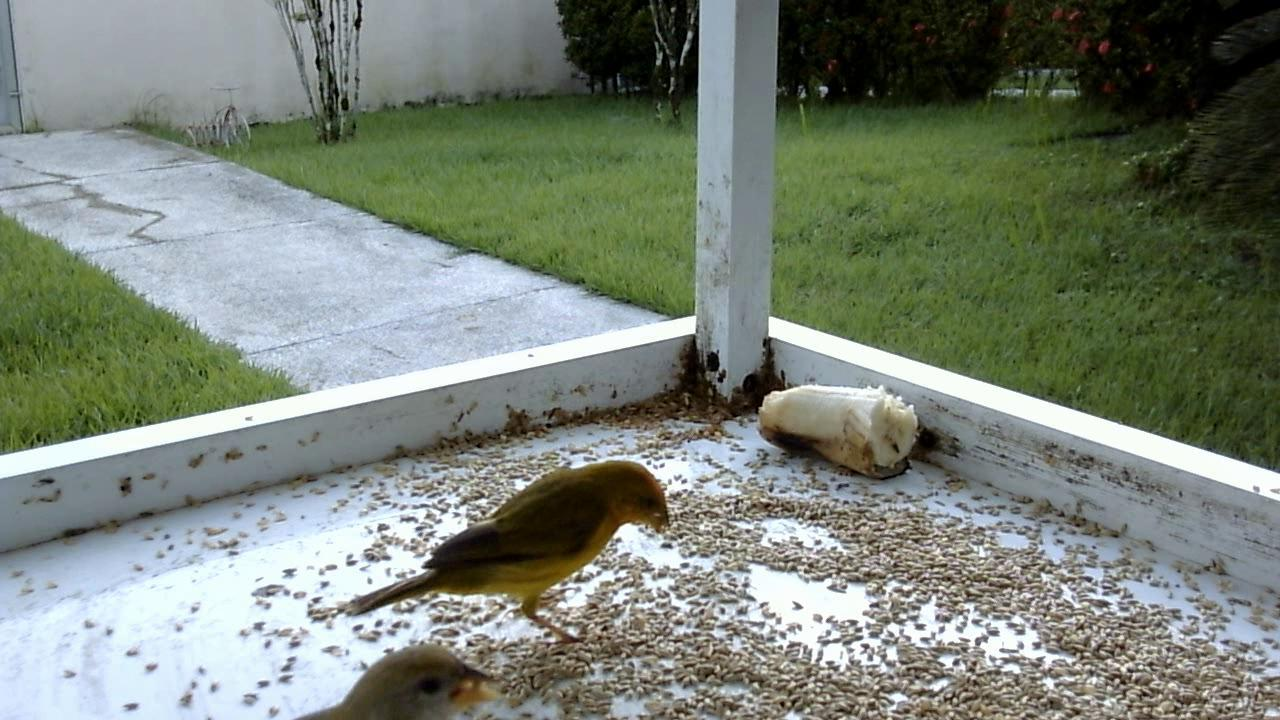canario_do_amazonas: (316, 458, 674, 653), (274, 638, 510, 718)
